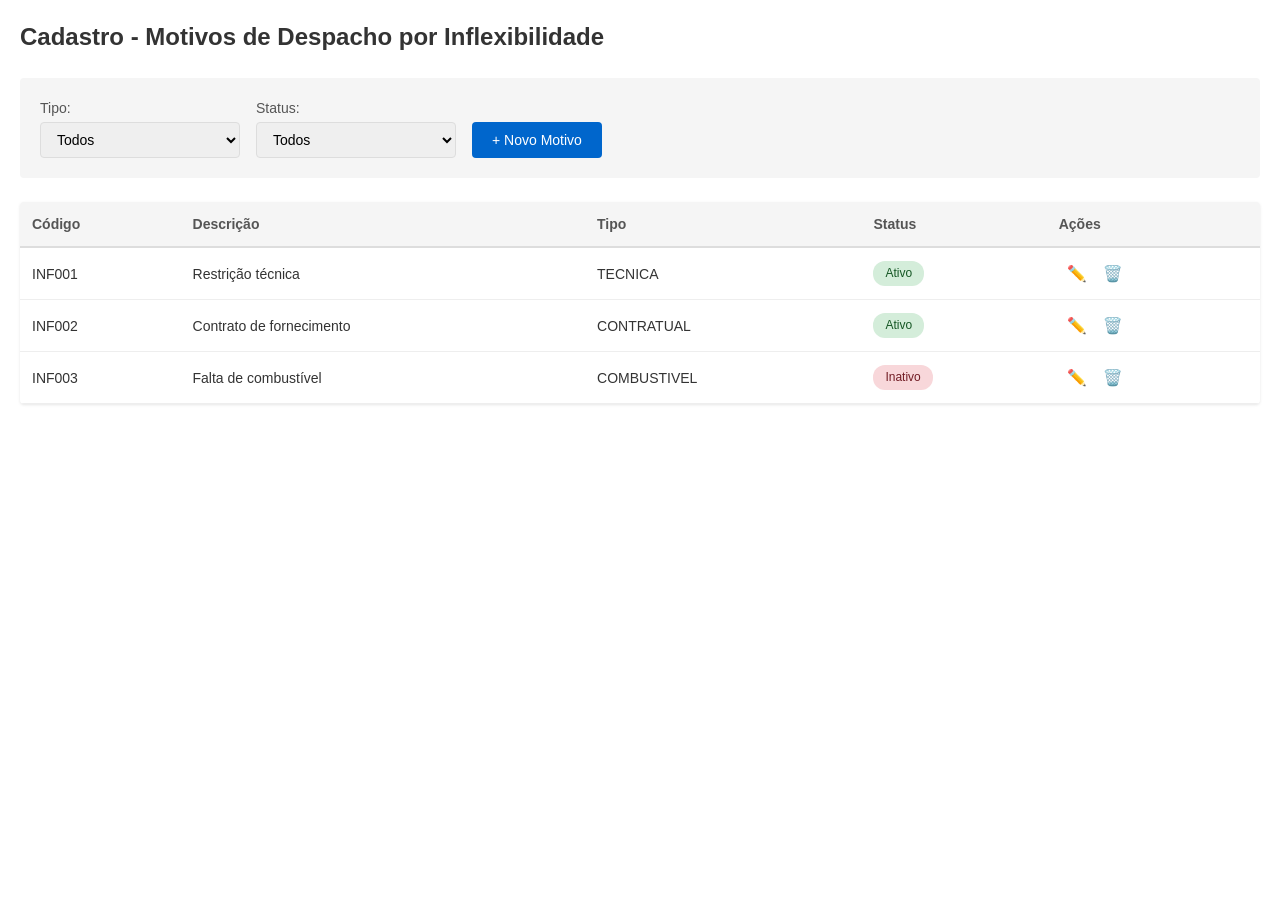
Test case: InflexibilityDispatchReason Component › Diálogo de Criação/Edição › deve abrir em modo edição
Click the button with test id "btn-edit-1".
click(1077, 274)  # box [1059,260,1095,287]
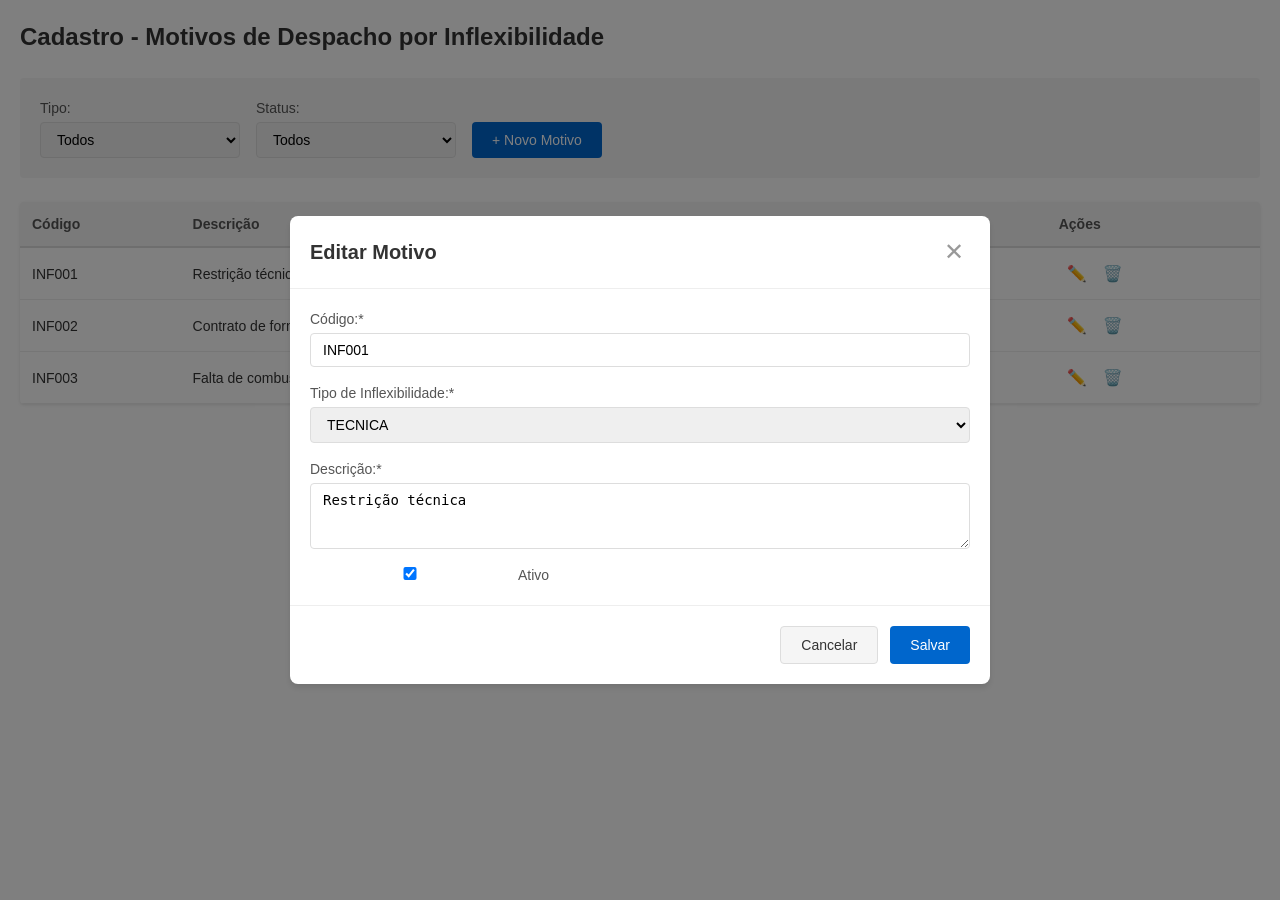
Expected: the heading "Editar Motivo" is shown, [310,238,437,266]
Expected: the field with test id "form-codigo" holds "INF001", [310,333,970,367]
